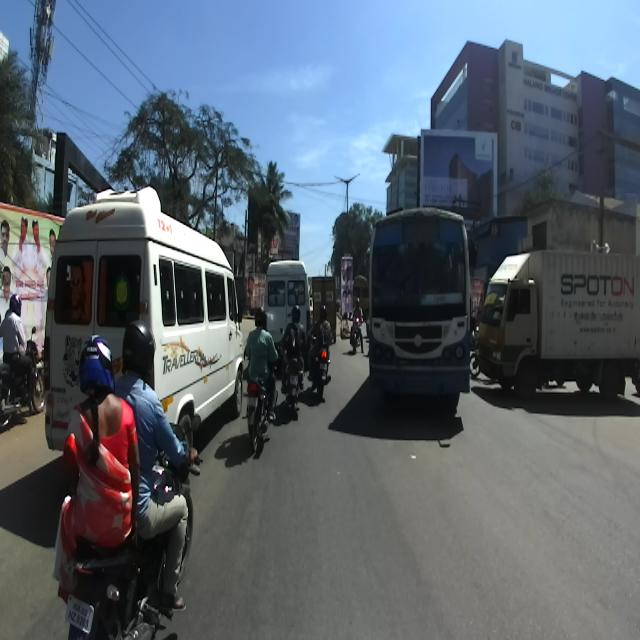bus ahead at: (366, 210, 474, 410)
motorcycle ahead at: (60, 478, 200, 640), (244, 379, 276, 458)
truck ahead at: (482, 249, 640, 401)
